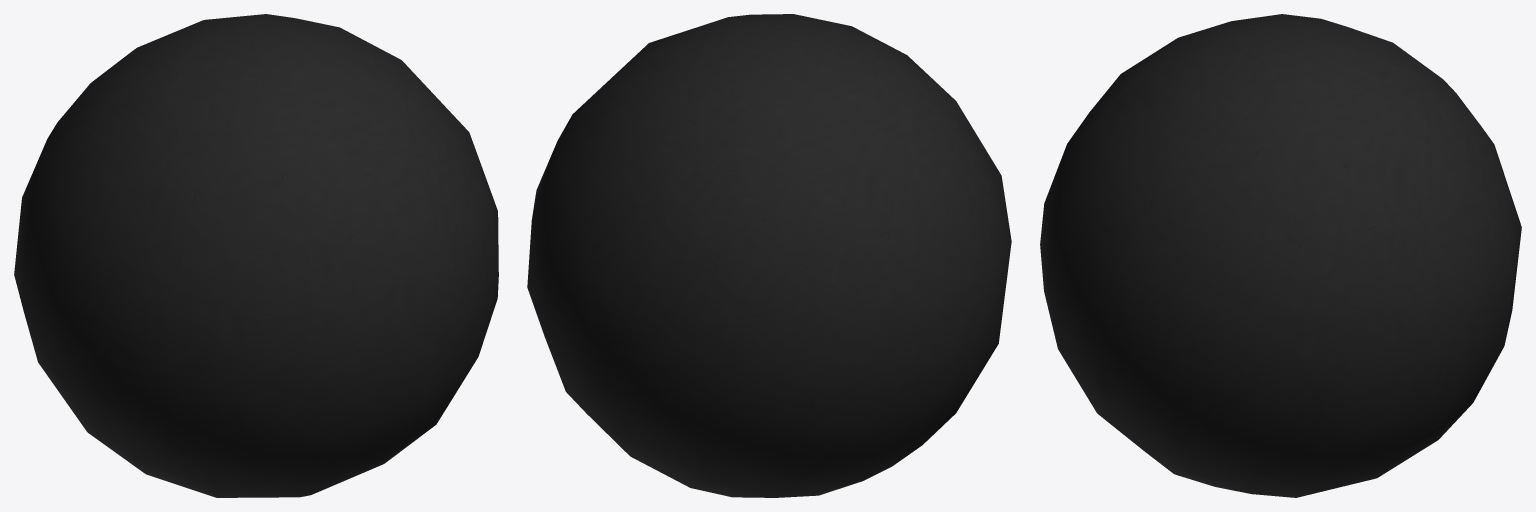
File: CannonBall.glb
The picture shows the model from 3 angles, left to right: view 1: azimuth 30°, elevation 25°; view 2: azimuth 150°, elevation 25°; view 3: azimuth 270°, elevation 25°; orthographic projection.
Visible parts, largest first — view 1: Sphere; view 2: Sphere; view 3: Sphere.
Boxes of the visible parts, x1=… form: Sphere: x1=14, y1=14, x2=498, y2=497; Sphere: x1=527, y1=14, x2=1011, y2=497; Sphere: x1=1040, y1=14, x2=1521, y2=497.
Bounding box in the file's own units: 0.1642 × 0.1644 × 0.1642.
Materials: 1 (1 with a texture image).
